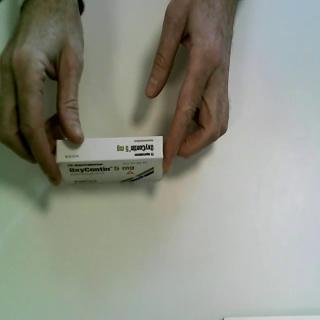oxycontin5mg: (55, 135, 167, 187)
